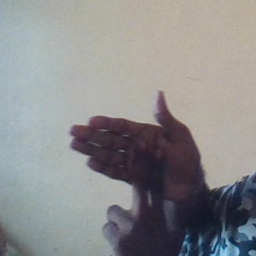N: (66, 87, 196, 249)
